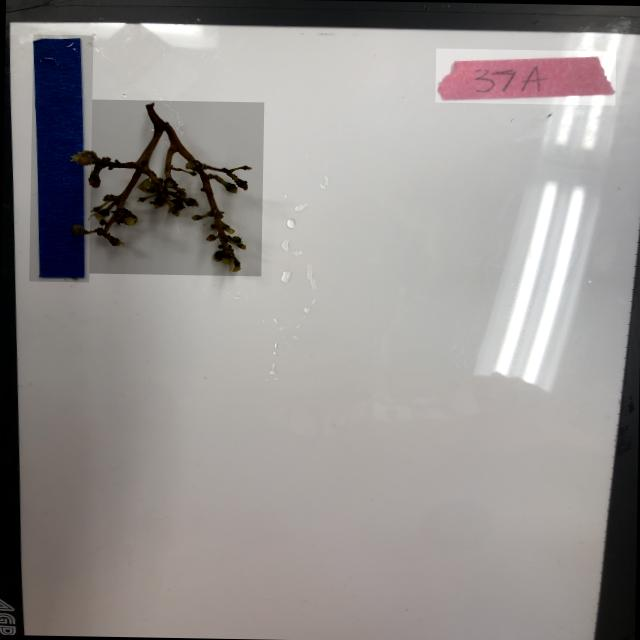index: (435, 48, 616, 105)
measure_label: (29, 34, 93, 282)
rachis_cluster: (68, 100, 264, 276)
